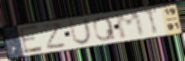E: (17, 23, 45, 55)
M: (113, 9, 148, 41)
Q: (92, 16, 118, 42)
T: (141, 7, 161, 35)
U: (67, 17, 93, 46)
Z: (41, 21, 67, 50)
